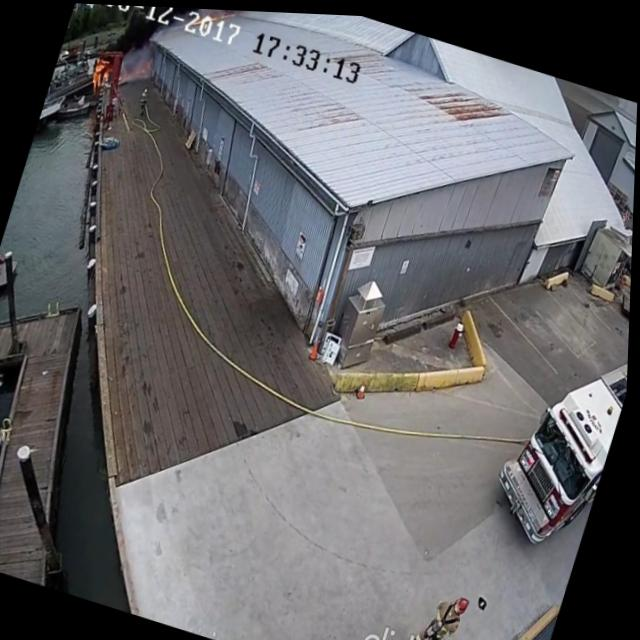fire: (84, 49, 119, 97)
